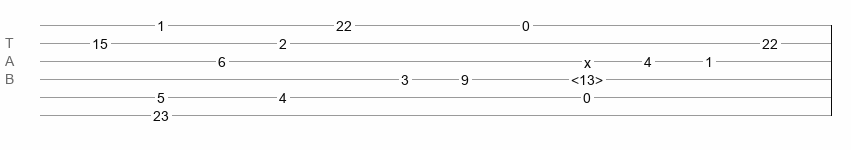0: (522, 18, 530, 28), (583, 90, 591, 100)
1: (157, 18, 165, 28), (705, 54, 713, 64)
15: (92, 36, 108, 46)
2: (279, 36, 287, 46)
22: (336, 18, 352, 28), (762, 36, 778, 46)
23: (153, 108, 169, 118)
3: (401, 72, 409, 82)
4: (279, 90, 287, 100), (644, 54, 652, 64)
5: (157, 90, 165, 100)
6: (218, 54, 226, 64)
9: (461, 72, 469, 82)
harmonic: (571, 72, 603, 82)
x: (584, 55, 591, 63)
